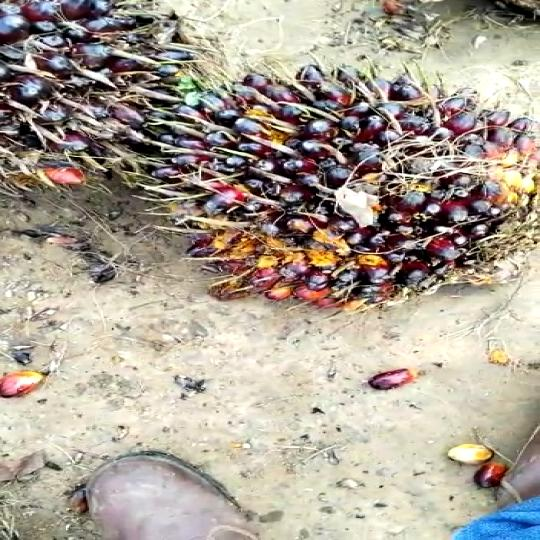kurang masak: (160, 59, 540, 318), (0, 0, 189, 177)
